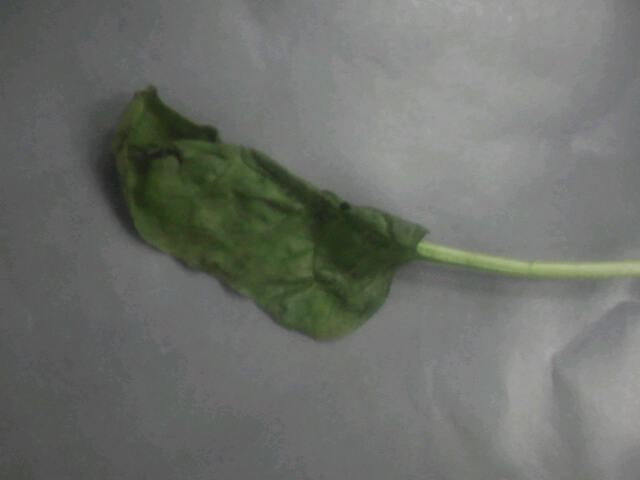yellow: (82, 66, 565, 356)
